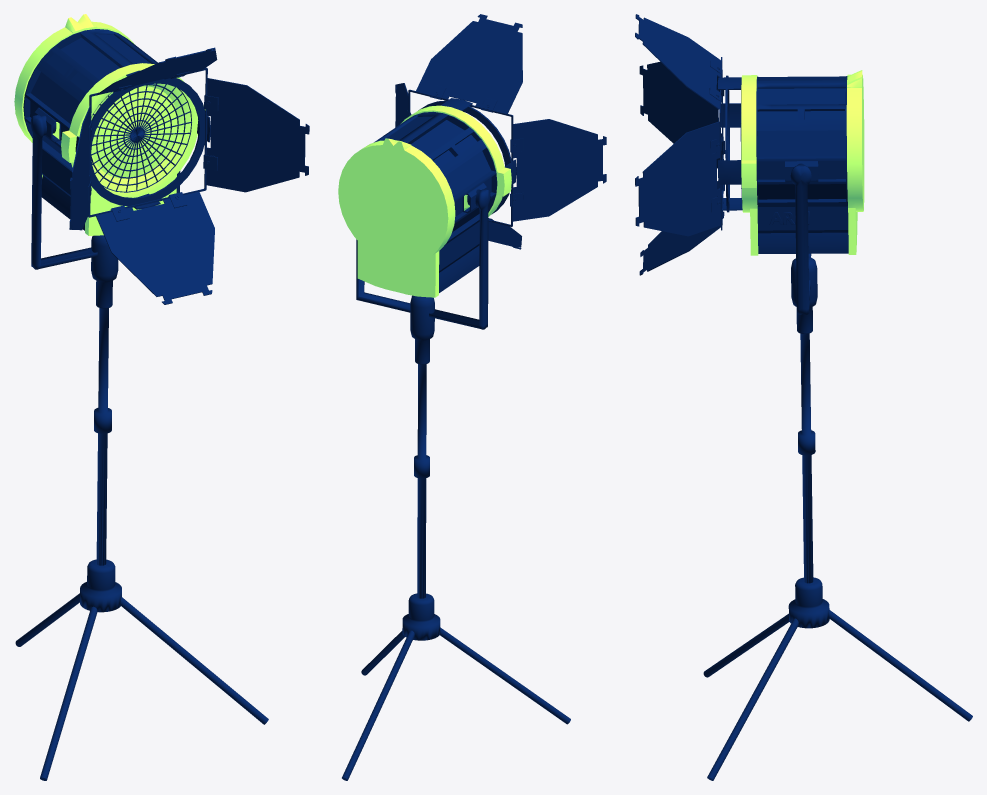
File: Projo.fbx
3 renders of one model, left to right at view 1: azimuth 30°, elevation 25°; view 2: azimuth 150°, elevation 25°; view 3: azimuth 270°, elevation 25°, orthographic. The views are drawn at different scales.
Visible parts, largest first — view 1: Photo_light_1_001; view 2: Photo_light_1_001; view 3: Photo_light_1_001.
Part boxes in pixels (x1,y1,x2,y2): Photo_light_1_001: (14,14,309,780); Photo_light_1_001: (338,14,606,780); Photo_light_1_001: (635,14,972,780).
Bounding box in the file's own units: 125 × 368 × 160.
